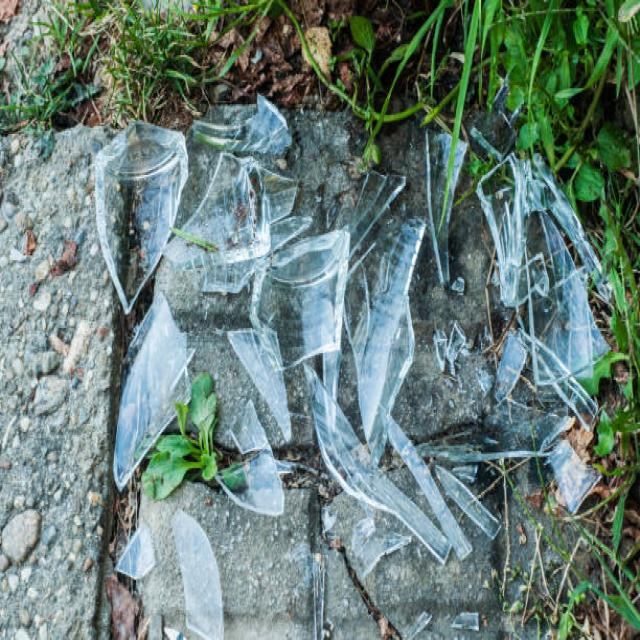glass: (115, 126, 448, 454)
